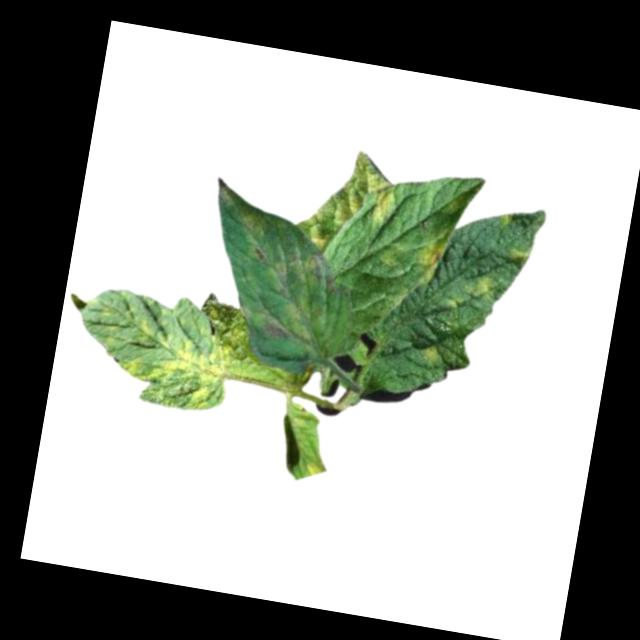Leaf_Mold: (291, 144, 396, 262), (243, 242, 344, 352), (122, 318, 236, 414), (209, 174, 298, 246), (413, 231, 452, 288), (367, 185, 403, 227), (470, 272, 499, 301), (418, 340, 443, 364)
